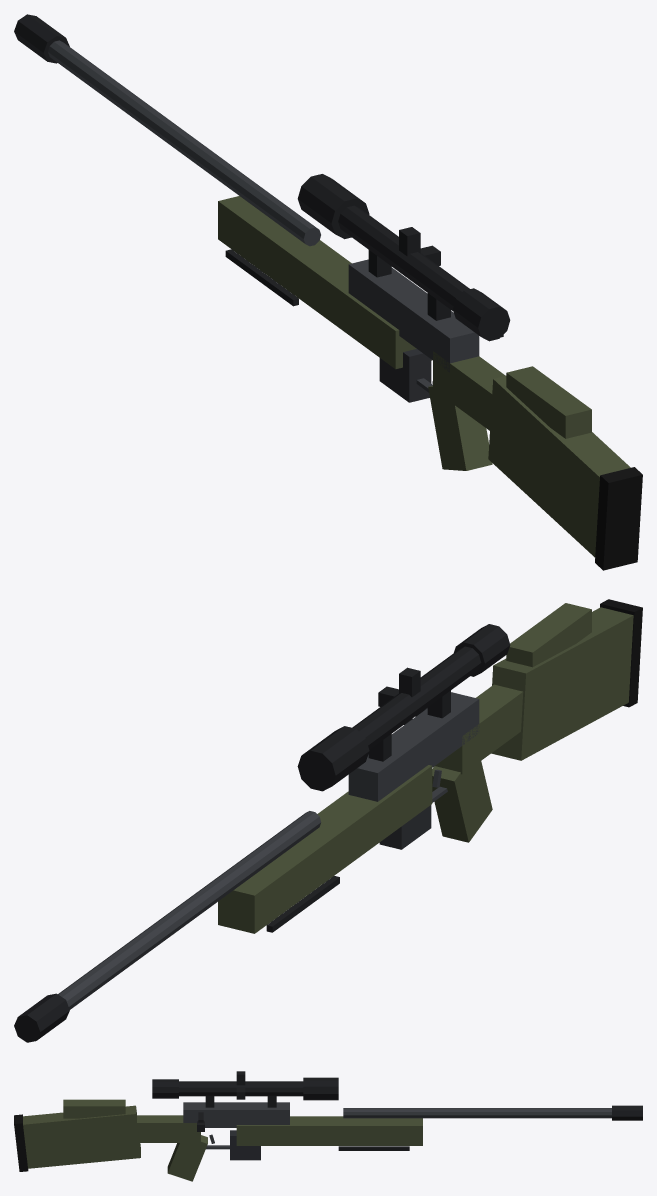
Rendered from sniper.glb.
3 views of the same model, one above another, from view 1: azimuth 30°, elevation 25°; view 2: azimuth 150°, elevation 25°; view 3: azimuth 270°, elevation 25° (orthographic). The views are drawn at different scales.
Parts seen in each view (by area): view 1: sniper; view 2: sniper; view 3: sniper.
Part boxes in pixels (bbox=[...]): sniper: bbox=[14, 14, 642, 570]; sniper: bbox=[14, 599, 642, 1042]; sniper: bbox=[14, 1071, 642, 1181].
Size of the model in its own units: 0.103 by 0.2622 by 1.42.
